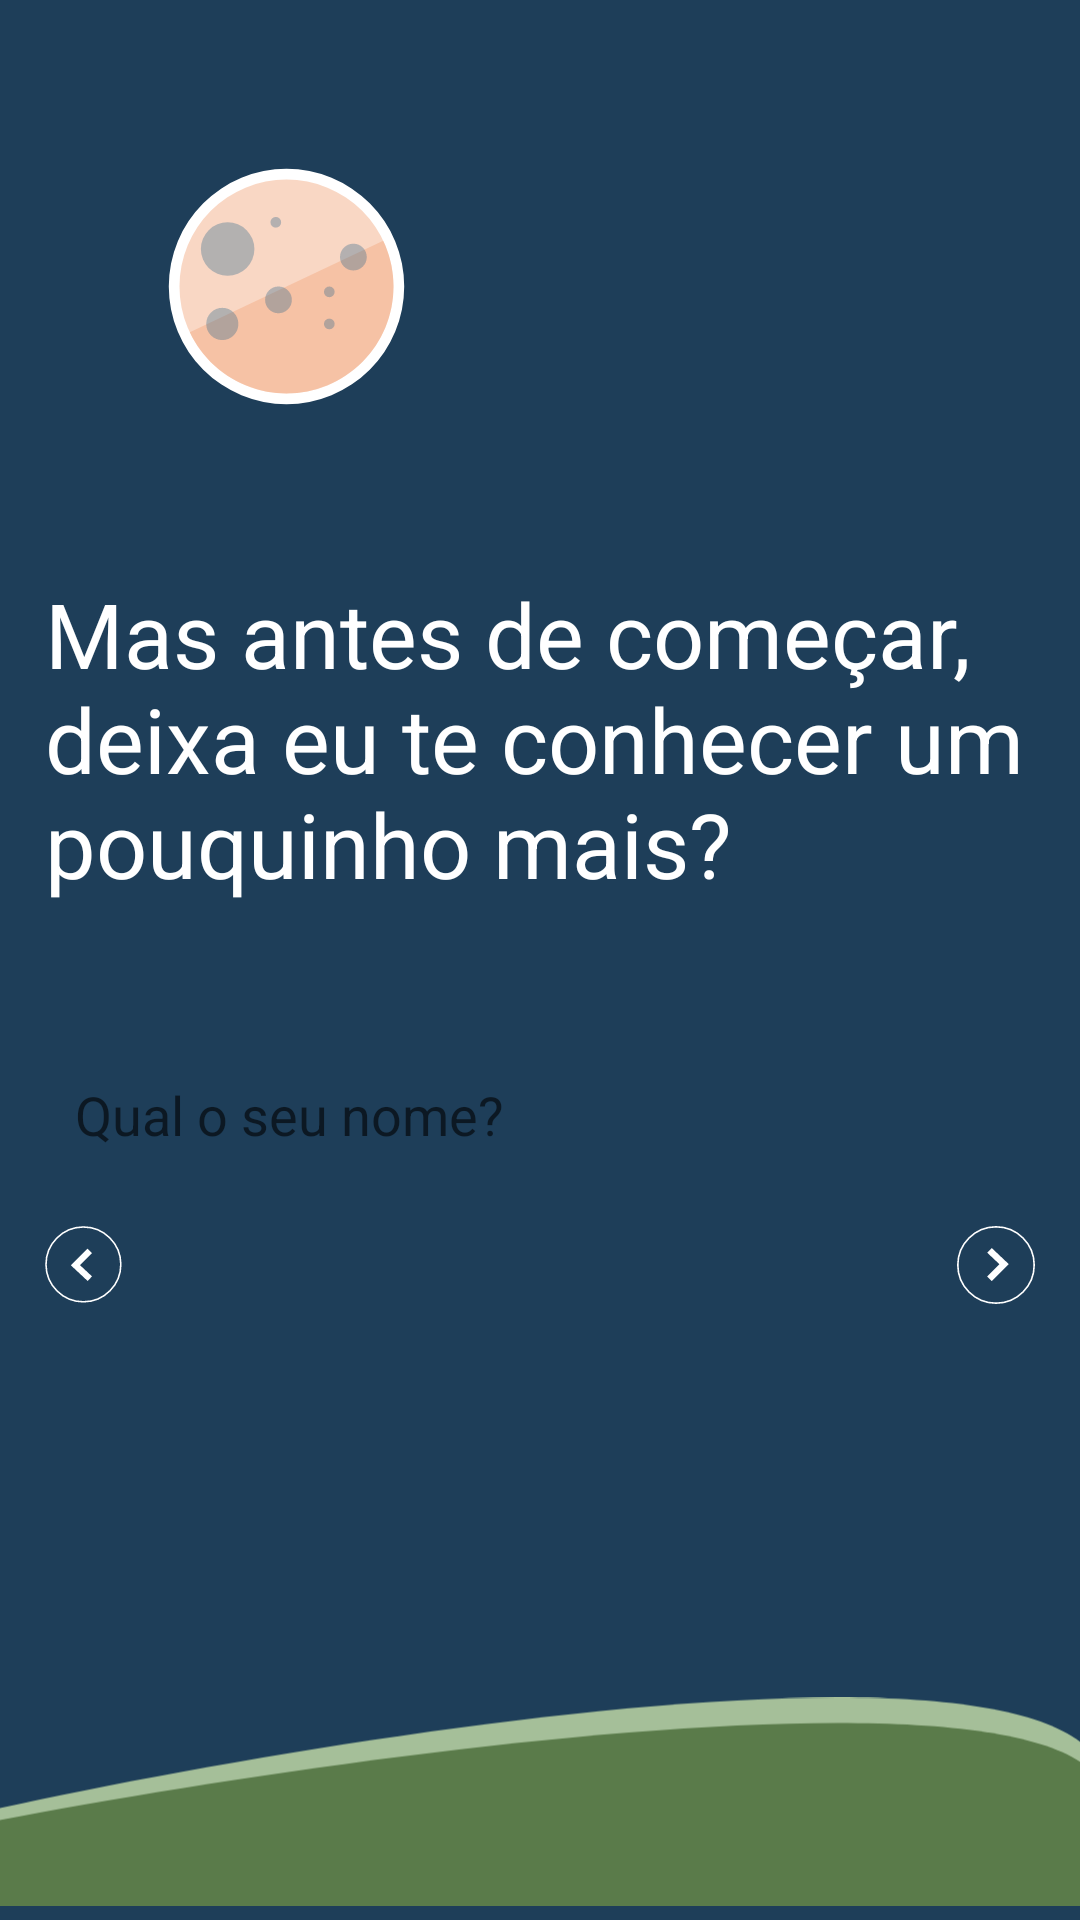

Screen size 1080px×1920px. Icon name, then its box in pixels as (x1, y1, x2, y2):
back: (45, 1226, 122, 1303)
moon: (168, 168, 405, 405)
next: (957, 1226, 1035, 1304)
